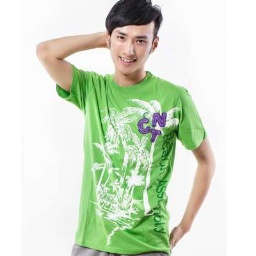face: (104, 1, 165, 73)
